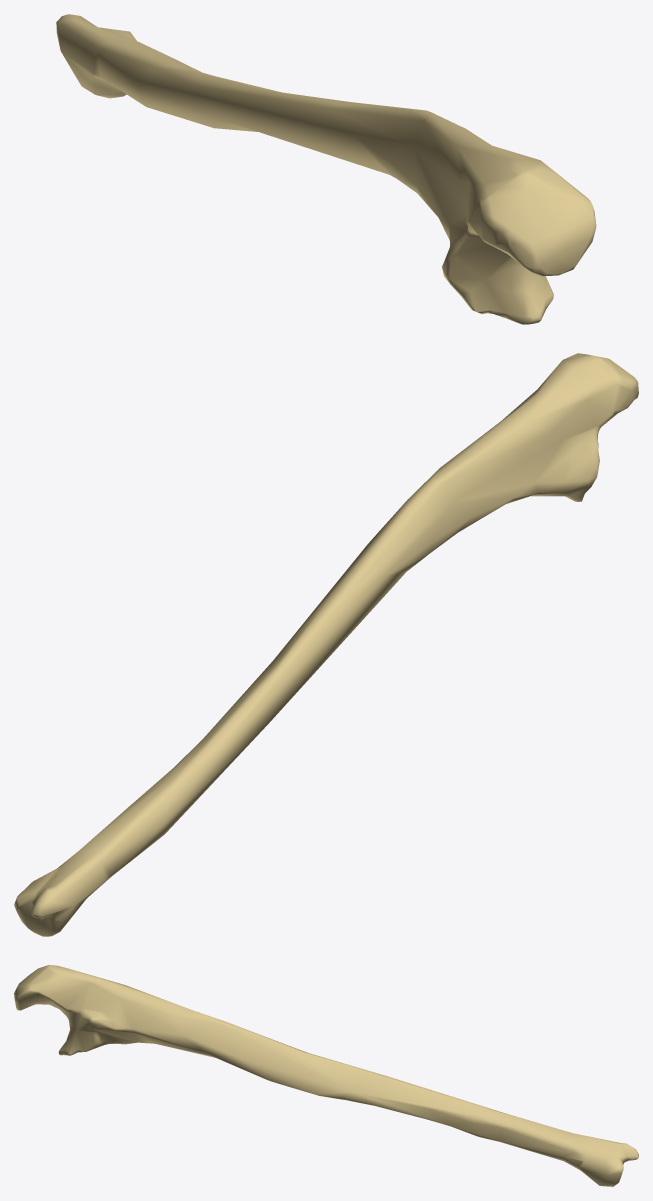
The picture shows the model from 3 angles, top to bottom: view 1: azimuth 30°, elevation 25°; view 2: azimuth 150°, elevation 25°; view 3: azimuth 270°, elevation 25°; orthographic projection. The views are drawn at different scales.
Parts seen in each view (by area): view 1: 左侧尺骨; view 2: 左侧尺骨; view 3: 左侧尺骨.
Boxes of the visible parts, box(x1,y1,x2,y2) form: 左侧尺骨: box(56, 14, 596, 324); 左侧尺骨: box(14, 353, 638, 936); 左侧尺骨: box(14, 965, 638, 1186).
Size of the model in its own units: 0.0772 by 0.1226 by 0.3764.
